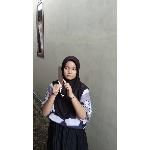Pisau: (54, 63, 70, 99)
